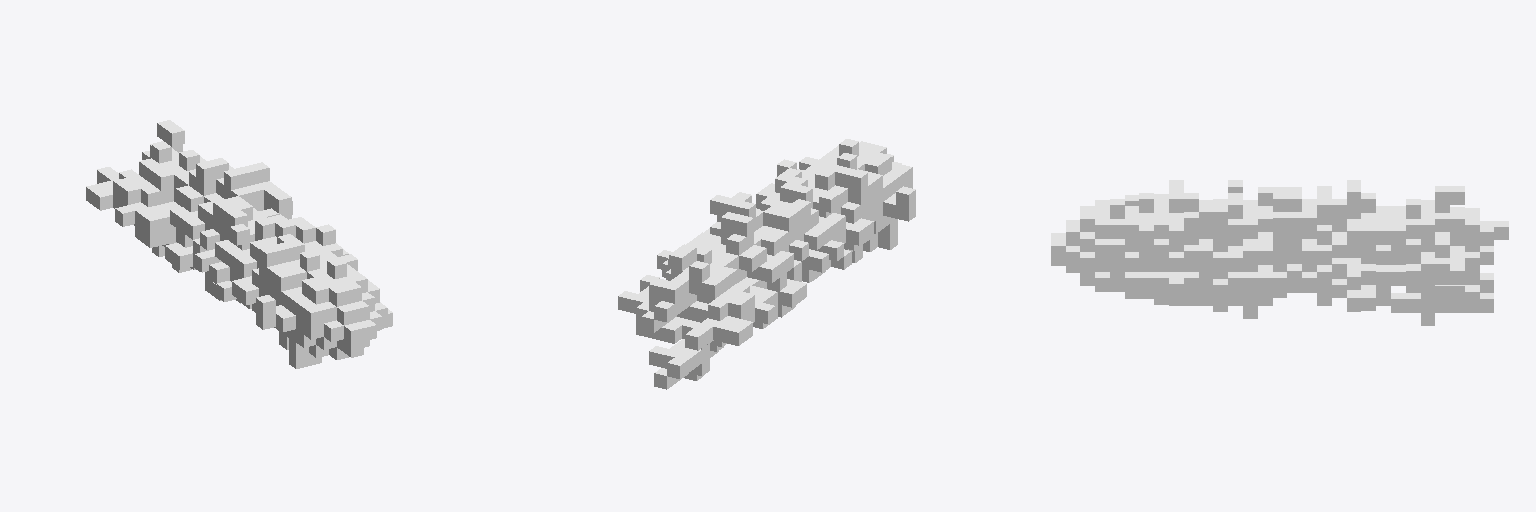
Rendered from projectile2anim.obj.
The picture shows the model from 3 angles: view 1: azimuth 30°, elevation 25°; view 2: azimuth 150°, elevation 25°; view 3: azimuth 270°, elevation 25°; orthographic projection.
Visible parts, largest first — view 1: object 1; view 2: object 1; view 3: object 1.
Part boxes in pixels (x1,y1,x2,y2): object 1: (86,120,392,368); object 1: (618,139,915,389); object 1: (1051,180,1508,325).
Bounding box in the file's own units: 1.1 × 1 × 3.1.